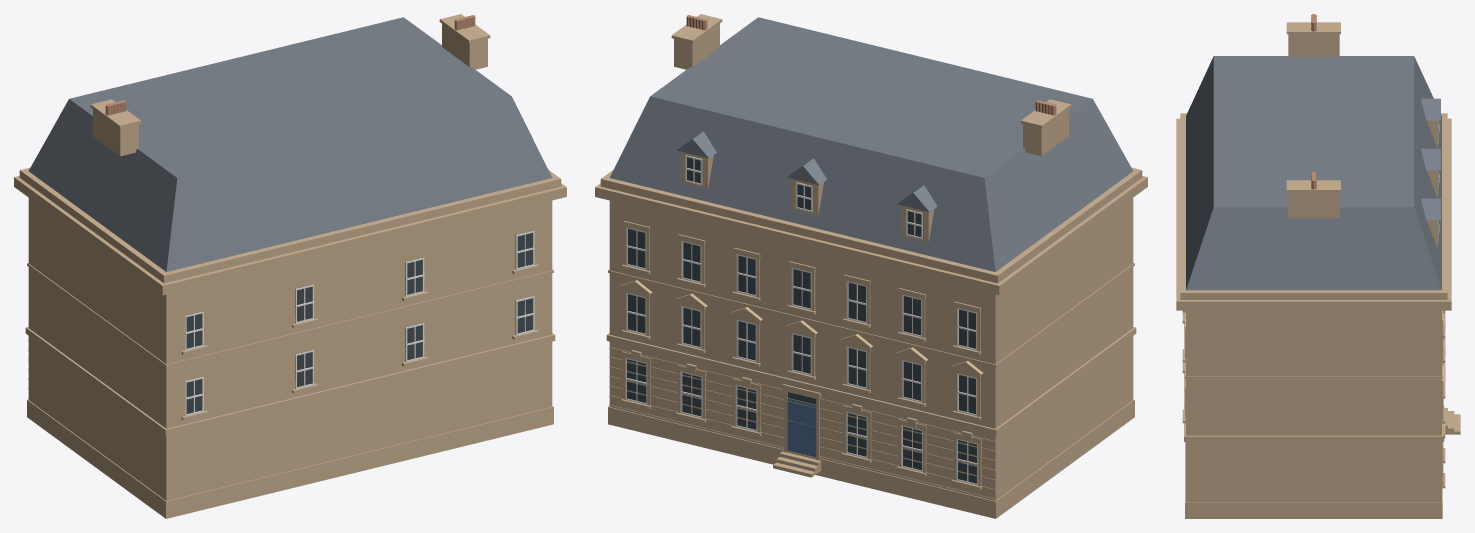
The model's file is classical3.glb.
3 renders of one model, left to right at view 1: azimuth 30°, elevation 25°; view 2: azimuth 150°, elevation 25°; view 3: azimuth 270°, elevation 25°, orthographic. The views are drawn at different scales.
Visible parts, largest first — view 1: classical3; view 2: classical3; view 3: classical3.
Boxes of the visible parts, x1,y1,x2,y2 form: classical3: (14,14,566,518); classical3: (595,14,1147,518); classical3: (1176,14,1460,518).
Size of the model in its own units: 22 by 18.72 by 14.46.
